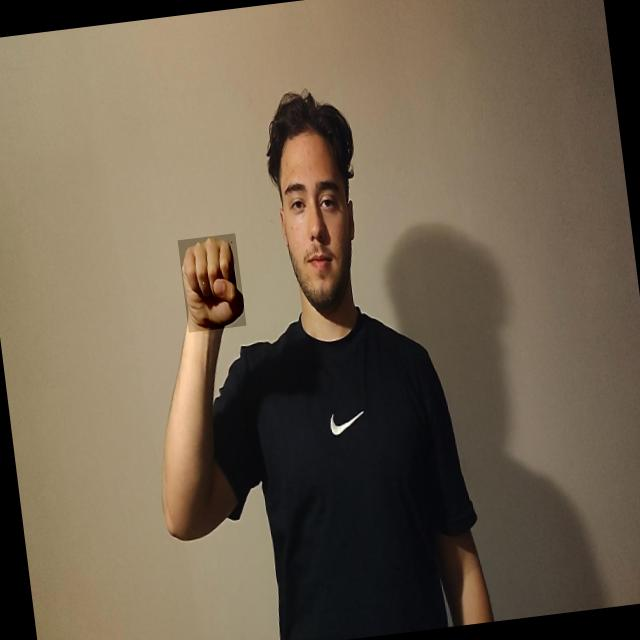yes: (177, 233, 246, 332)
